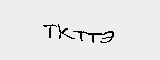К: (58, 24, 75, 41)
Т: (85, 29, 100, 46), (42, 23, 57, 39), (73, 29, 88, 42)
Э: (99, 29, 116, 46)
